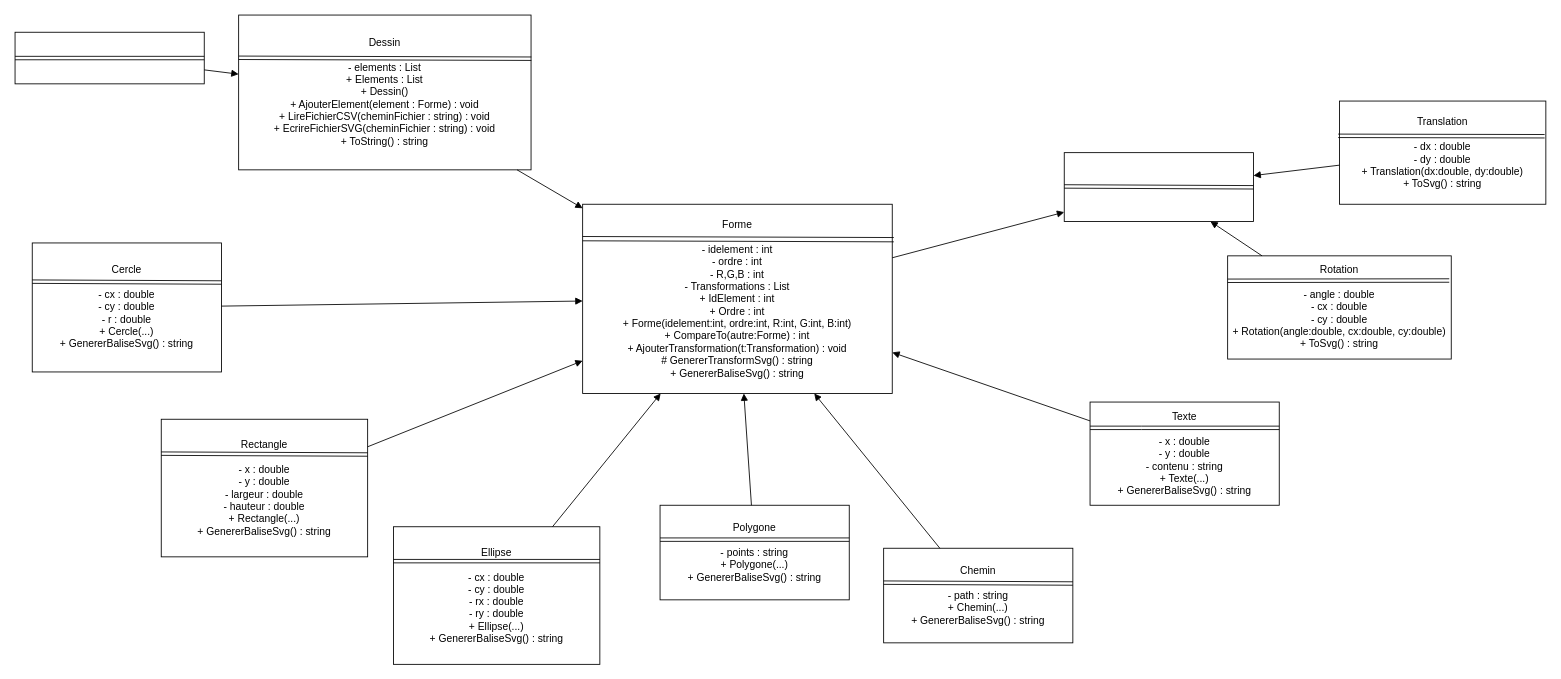
Image size: 1561x679. Some labels were removed from this diagram. The shapes that lost their labels are listed below. From the top down, each one's centre as x and y in pixels, then its label:
(109,57): Program + Main(args : string[]) : void
(1158,186): Transformation + ToSvg() : string
